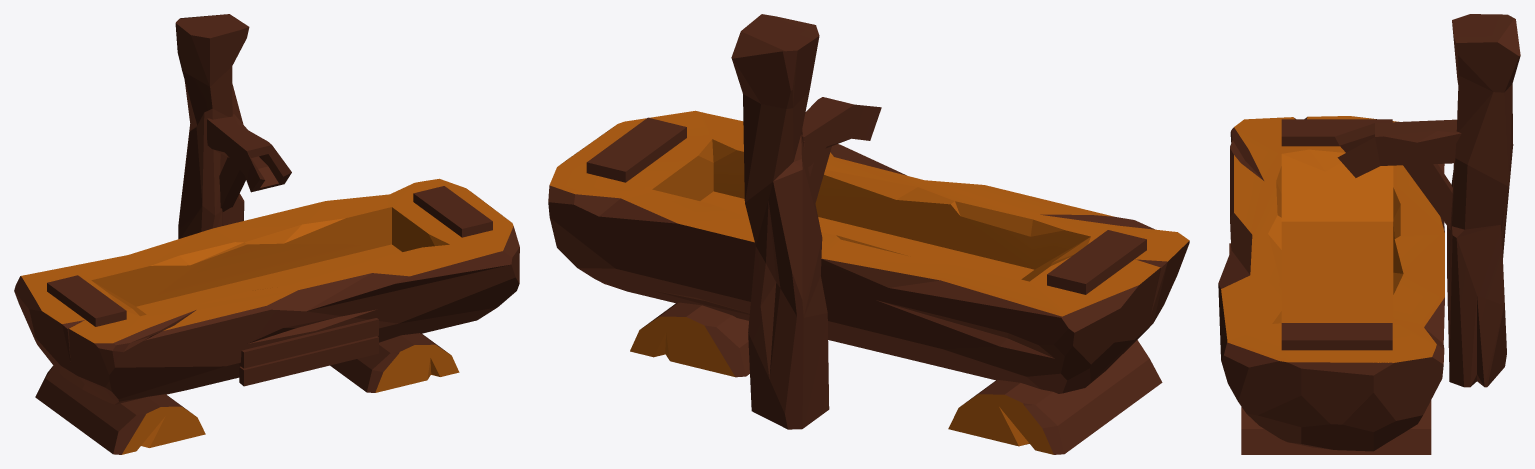
Rendered from Watering_Place.fbx.
The picture shows the model from 3 angles, left to right: view 1: azimuth 30°, elevation 25°; view 2: azimuth 150°, elevation 25°; view 3: azimuth 270°, elevation 25°; orthographic projection. The views are drawn at different scales.
Visible parts, largest first — view 1: Watering_Place; view 2: Watering_Place; view 3: Watering_Place.
Part boxes in pixels (left/top/right/bottom): Watering_Place: left=14, top=14, right=519, bottom=454; Watering_Place: left=548, top=14, right=1189, bottom=454; Watering_Place: left=1218, top=14, right=1520, bottom=454.
Size of the model in its own units: 56.35 by 36.55 by 28.82.
